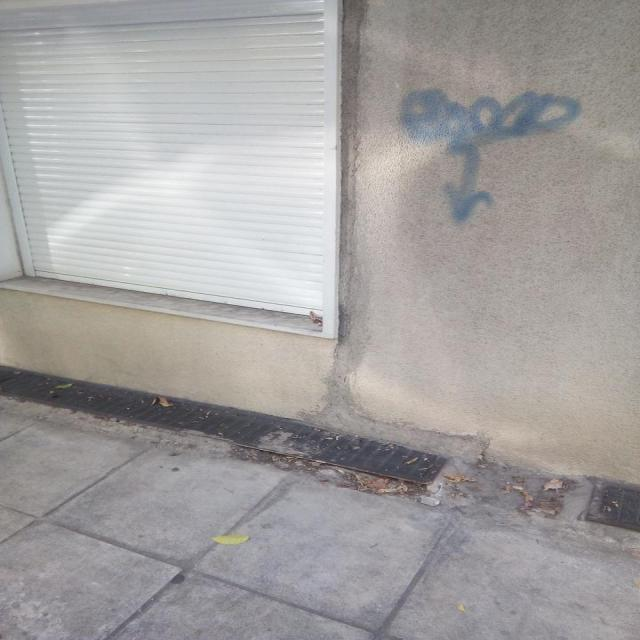nonspitting: (402, 88, 584, 226)
